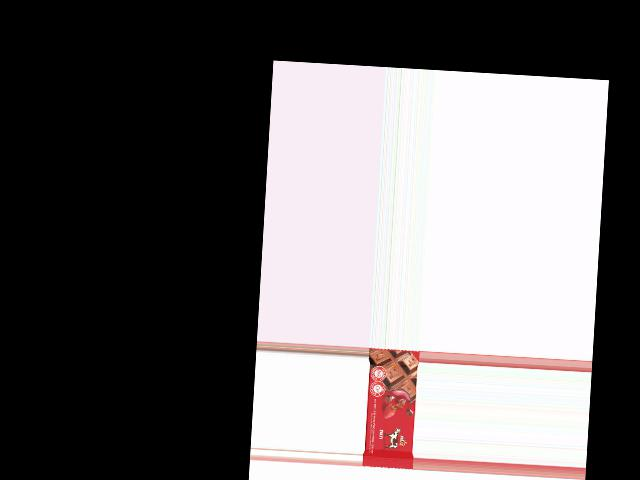chocolate: (361, 349, 419, 470)
